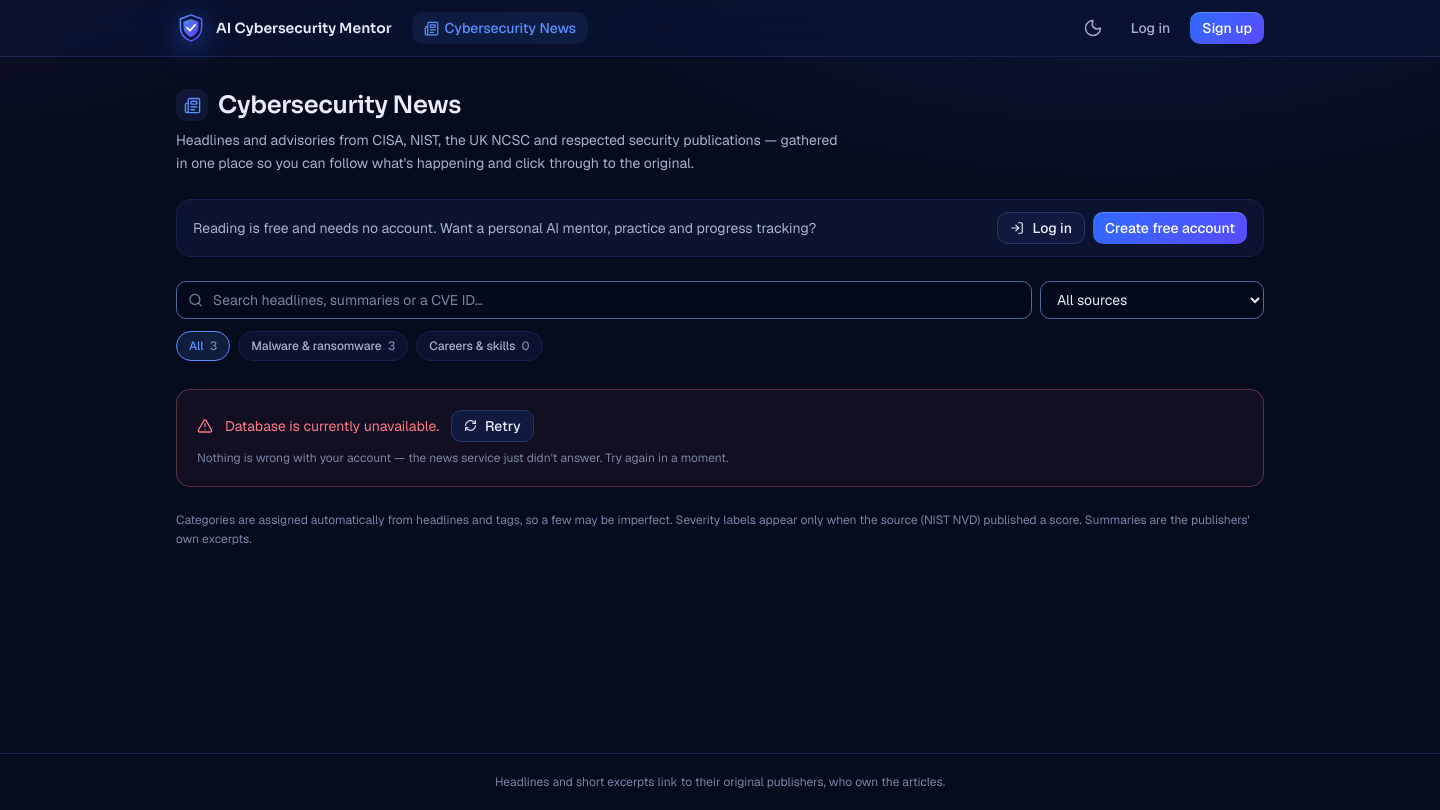
news page states (real page, faked network) › shows a recoverable error with Retry, then recovers
Click the button "Retry" at (492, 426), box [451, 410, 534, 442]
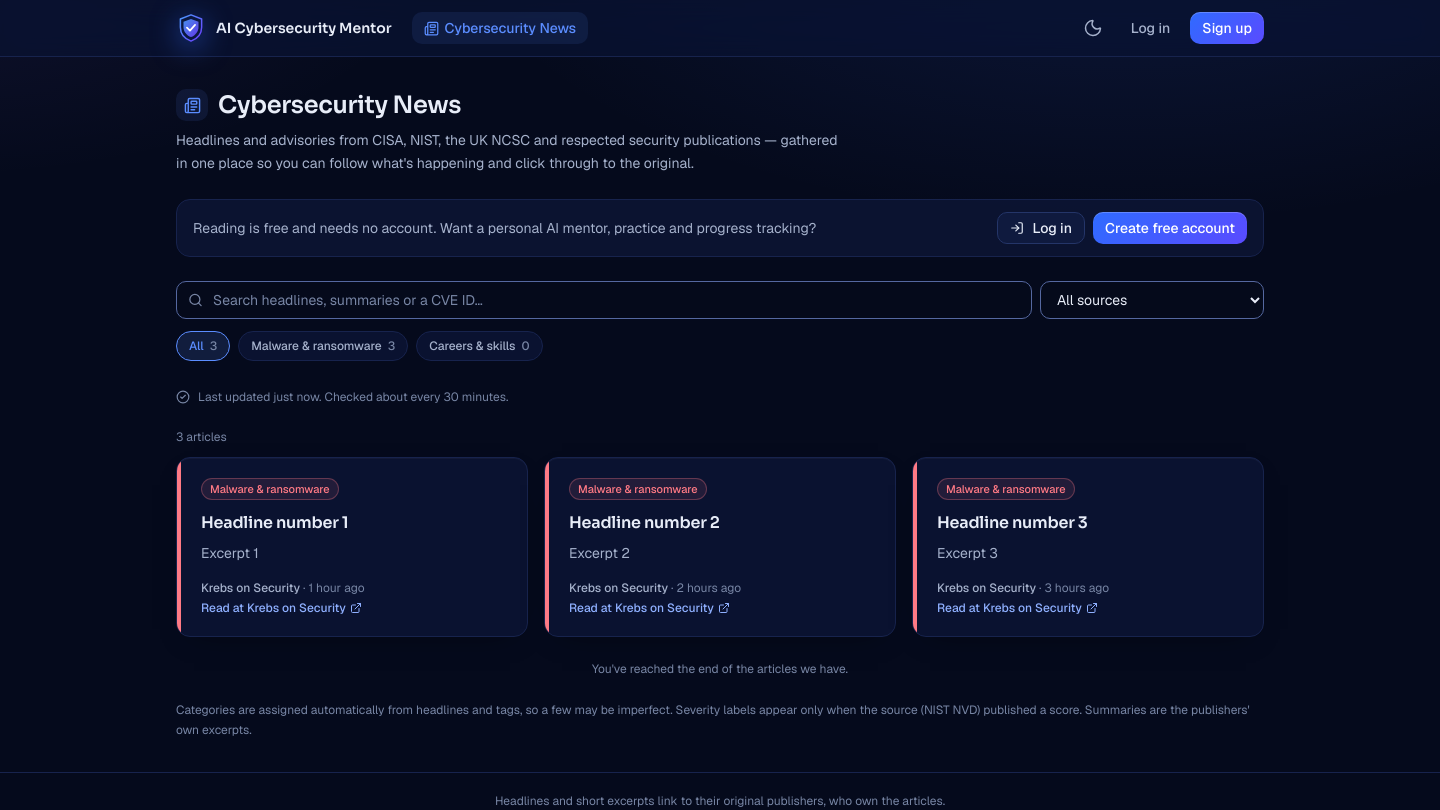
Expected: the message "Database is currently unavailable. Retry" is gone
